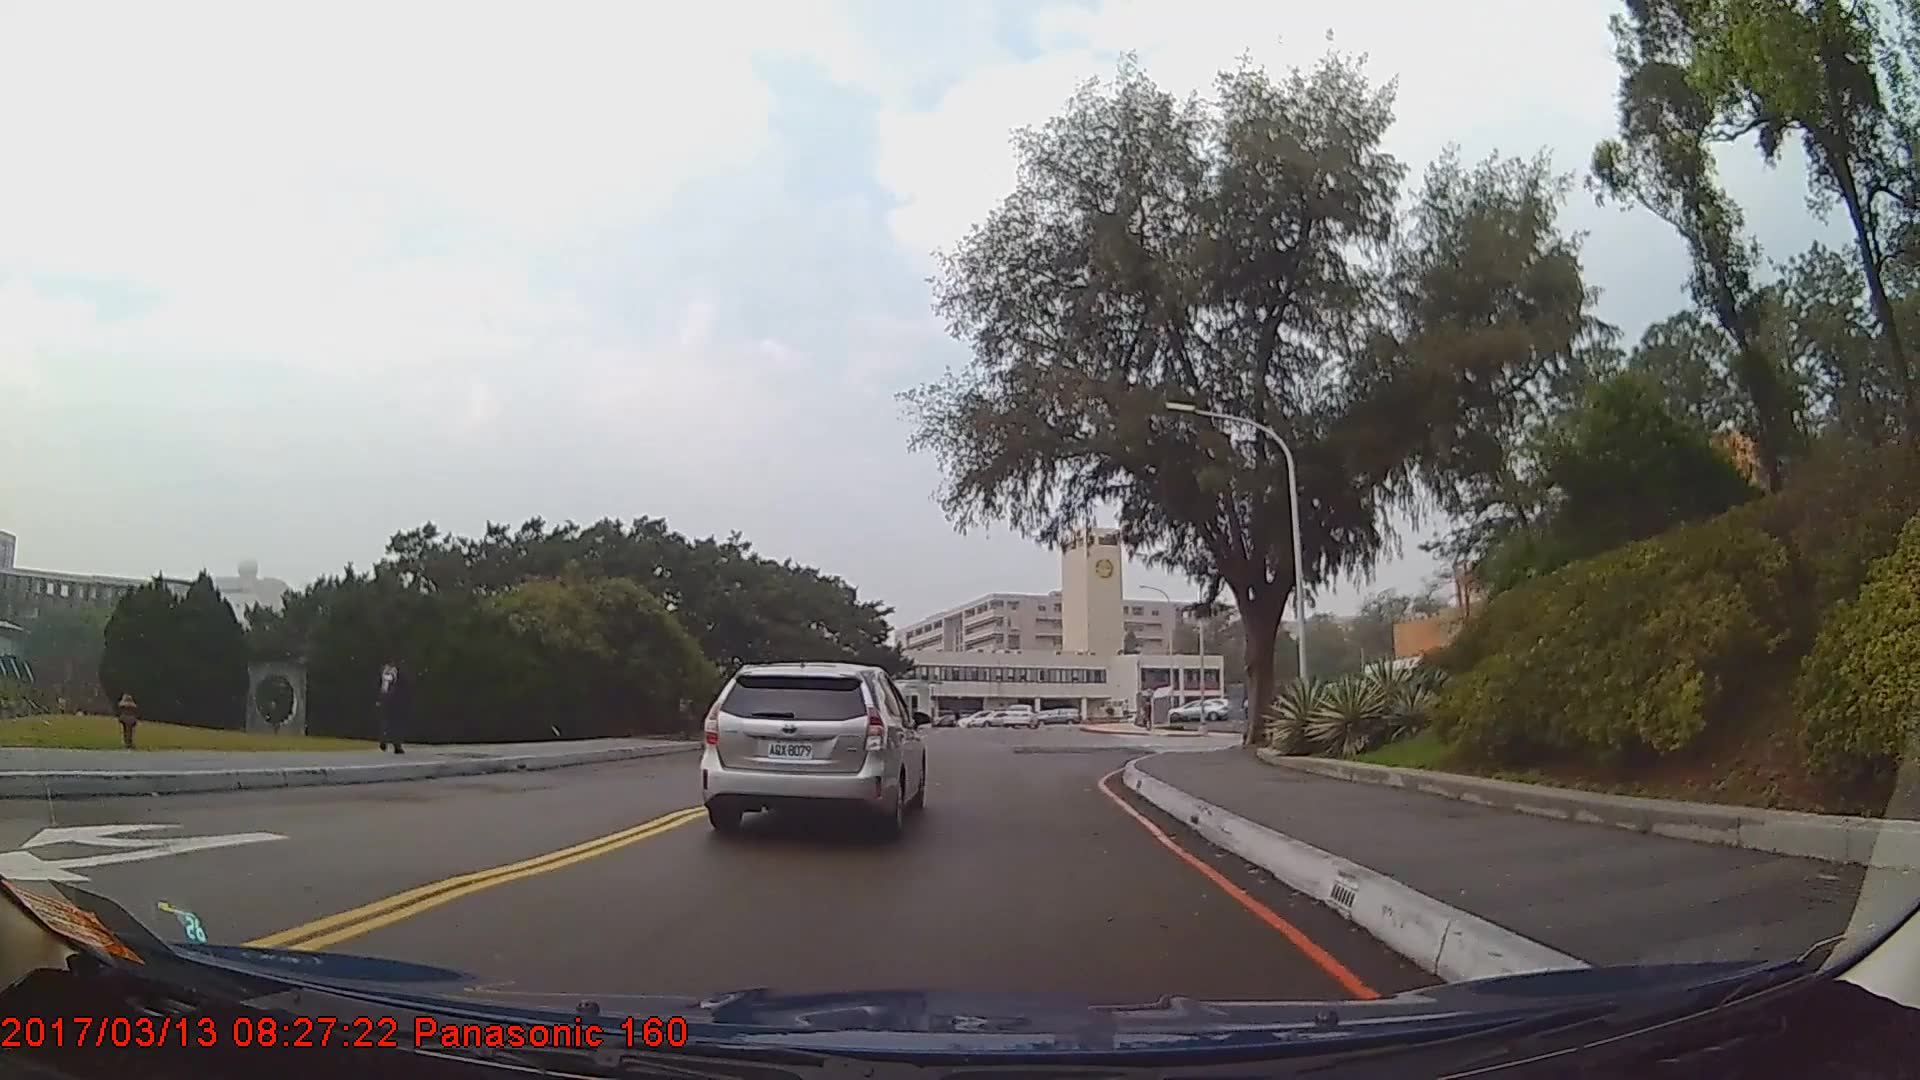pedestrian: (363, 647, 413, 756)
vehicle: (699, 659, 926, 839), (1166, 699, 1226, 721), (967, 704, 1016, 729), (999, 700, 1040, 727)
